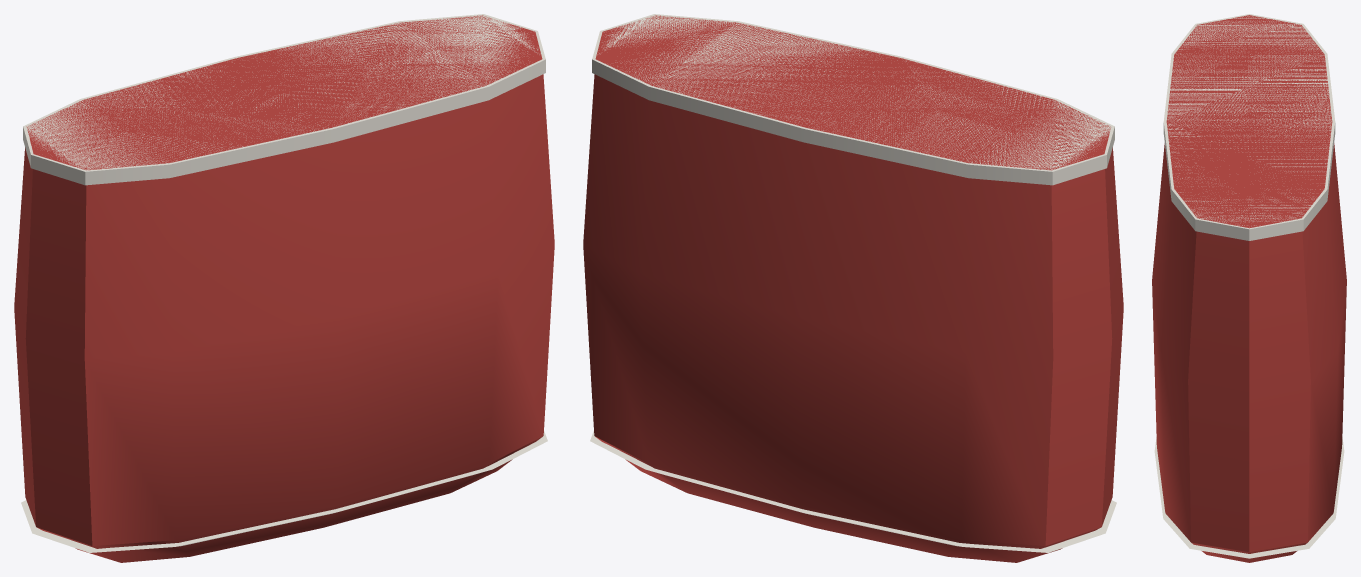
The model's file is throw_over_lod1.glb.
3 views of the same model, side by side, from view 1: azimuth 30°, elevation 25°; view 2: azimuth 150°, elevation 25°; view 3: azimuth 270°, elevation 25° (orthographic). The views are drawn at different scales.
Parts seen in each view (by area): view 1: throw_over_lod1; view 2: throw_over_lod1; view 3: throw_over_lod1.
Boxes of the visible parts, x1,y1,x2,y2 form: throw_over_lod1: (14, 14, 554, 562); throw_over_lod1: (583, 14, 1123, 562); throw_over_lod1: (1152, 14, 1346, 562).
Size of the model in its own units: 0.4 by 0.3 by 0.15.
